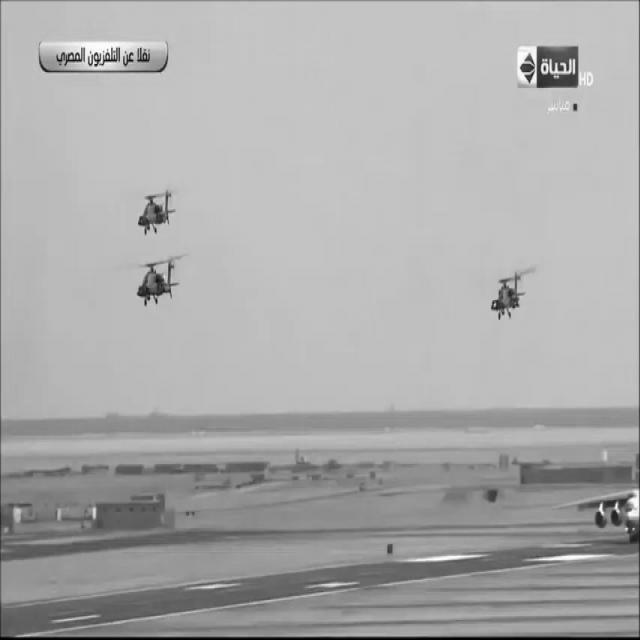helikopter: (473, 254, 541, 334), (131, 182, 183, 245), (130, 253, 186, 308)
